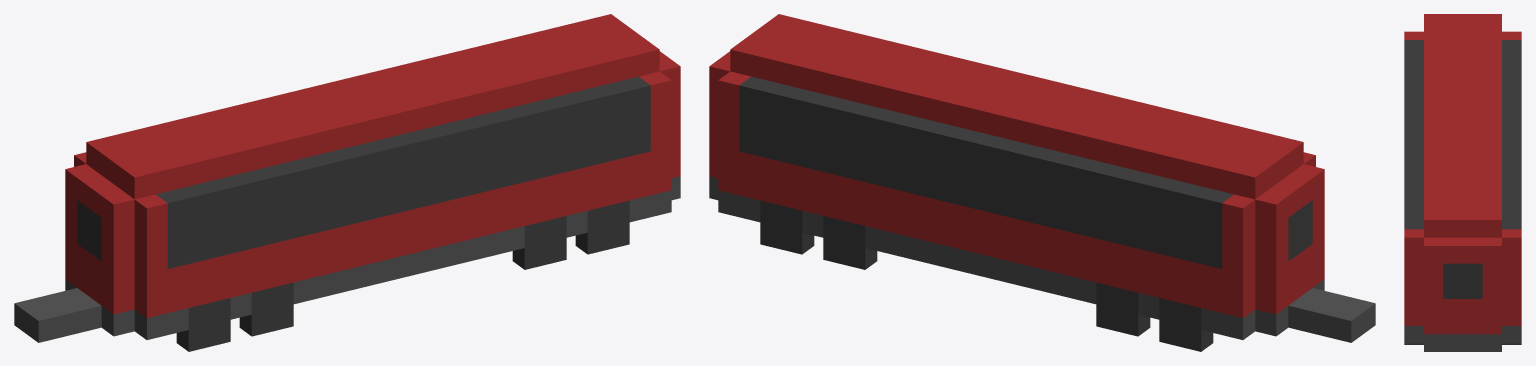
File: train-trailer-v1-red.gltf
3 views of the same model, side by side, from view 1: azimuth 30°, elevation 25°; view 2: azimuth 150°, elevation 25°; view 3: azimuth 270°, elevation 25° (orthographic). The views are drawn at different scales.
Visible parts, largest first — view 1: model, wheels; view 2: model, wheels; view 3: model.
Part boxes in pixels (box(x1,y1,x2,y2)): model: box(14, 14, 680, 342); wheels: box(176, 200, 629, 351); model: box(709, 14, 1375, 342); wheels: box(760, 200, 1213, 351); model: box(1404, 14, 1521, 351).
Bounding box in the file's own units: 3 × 0.8 × 0.6.
Materials: 2 (2 with a texture image).
